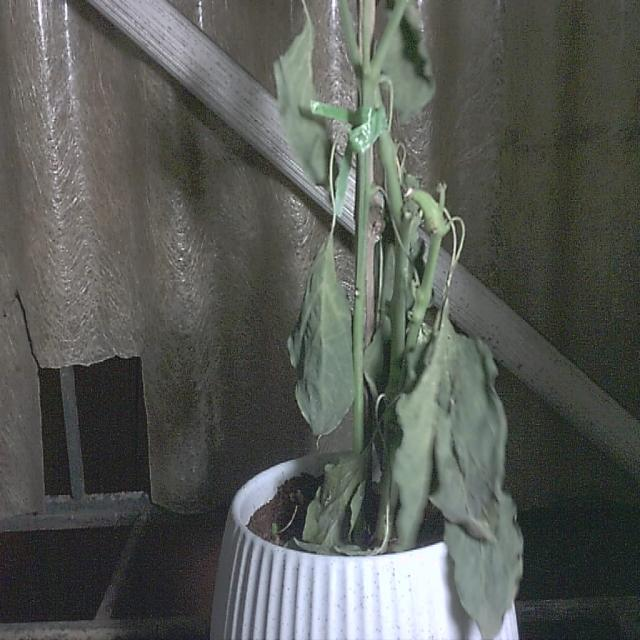Leaf: (287, 232, 356, 443)
